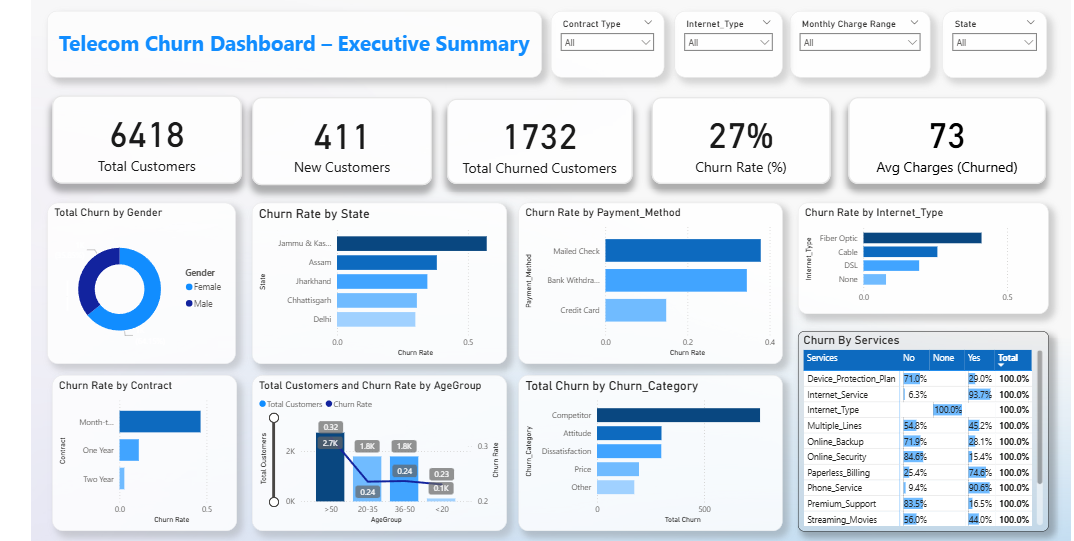

The page's visual inventory and layout, read from the dashboard file:
{"tool":"powerbi","page":{"name":"Executive Summary","canvas":[1800,845],"ordinal":0},"visuals":[{"type":"card","fields":{"Values":["TBL_Measure.Total Customers"]},"box":[131.2,150,291.7,135.4],"z":0},{"type":"card","fields":{"Values":["TBL_Measure.Total Churn"]},"box":[739.6,154.2,285.4,131.2],"z":1000},{"type":"card","fields":{"Values":["TBL_Measure.New Joiners"]},"box":[439.6,152.1,277.1,135.4],"z":2000},{"type":"card","fields":{"Values":["TBL_Measure.Churn Rate"]},"box":[1054.2,152.1,275,133.3],"z":3000},{"type":"donutChart","fields":{"Y":["TBL_Measure.Total Churn"],"Category":["prod_Churn.Gender"]},"box":[125,314.6,289.6,247.9],"z":4000},{"type":"lineStackedColumnComboChart","fields":{"Category":["mapping_AgeGrp.AgeGroup"],"Y":["TBL_Measure.Total Customers"],"Y2":["TBL_Measure.Churn Rate"]},"box":[422.9,597.9,408.3,229.2],"z":5000},{"type":"clusteredBarChart","fields":{"Category":["prod_Churn.Contract"],"Y":["TBL_Measure.Churn Rate"]},"box":[131.2,593.8,283.3,237.5],"z":6000},{"type":"image","box":[150,429.2,12.5,56.2],"z":7000},{"type":"clusteredBarChart","fields":{"Category":["prod_Churn.Internet_Type"],"Y":["TBL_Measure.Churn Rate"]},"box":[1279.2,314.6,385.4,170.8],"z":8000},{"type":"slicer","fields":{"Values":["prod_services.Monthly Charge Range "]},"box":[1268.5,20.7,216.3,102.2],"z":9000},{"type":"textbox","box":[125,20.8,760.4,102.1],"z":10000},{"type":"clusteredBarChart","fields":{"Y":["TBL_Measure.Total Churn"],"Category":["prod_Churn.Churn_Category"]},"box":[850,602.1,406.2,225],"z":11000},{"type":"pivotTable","title":"Churn By Services","fields":{"Columns":["prod_services.Status"],"Values":["Sum(prod_services.Churn Status)"],"Rows":["prod_services.Services"]},"box":[1279.2,512.5,383.3,308.3],"z":12000},{"type":"slicer","fields":{"Values":["prod_Churn.Internet_Type"]},"box":[1090.2,20.7,166.3,102.2],"z":13000},{"type":"slicer","fields":{"Values":["prod_Churn.Contract"]},"box":[900,20.7,173.9,102.2],"z":14000},{"type":"card","fields":{"Values":["TBL_Measure.Avg Monthly Charges (Churned)"]},"box":[1358.3,152.1,304.2,133.3],"z":15000},{"type":"clusteredBarChart","fields":{"Category":["prod_Churn.State"],"Y":["TBL_Measure.Churn Rate"]},"box":[439.6,308.3,391.7,262.5],"z":16000},{"type":"clusteredBarChart","fields":{"Category":["prod_Churn.Payment_Method"],"Y":["TBL_Measure.Churn Rate"]},"box":[850,314.6,406.2,266.7],"z":17000},{"type":"slicer","fields":{"Values":["prod_Churn.State"]},"box":[1502.5,20,160,102.5],"z":18000}]}

Visuals, with their boxes on the page's 1800x845 design canvas (x1, y1, x2, y2). These are canvas units, not pixel positions in the 1074x541 screenshot, which may show the page scaled, cropped or inside an application window:
card - TBL_Measure.Total Customers: 131/150/423/285
card - TBL_Measure.Total Churn: 740/154/1025/285
card - TBL_Measure.New Joiners: 440/152/717/288
card - TBL_Measure.Churn Rate: 1054/152/1329/285
donutChart - TBL_Measure.Total Churn x prod_Churn.Gender: 125/315/415/562
lineStackedColumnComboChart - mapping_AgeGrp.AgeGroup x TBL_Measure.Total Customers: 423/598/831/827
clusteredBarChart - prod_Churn.Contract x TBL_Measure.Churn Rate: 131/594/414/831
image: 150/429/162/485
clusteredBarChart - prod_Churn.Internet_Type x TBL_Measure.Churn Rate: 1279/315/1665/485
slicer - prod_services.Monthly Charge Range : 1268/21/1485/123
textbox: 125/21/885/123
clusteredBarChart - TBL_Measure.Total Churn x prod_Churn.Churn_Category: 850/602/1256/827
"Churn By Services" pivotTable: 1279/512/1662/821
slicer - prod_Churn.Internet_Type: 1090/21/1256/123
slicer - prod_Churn.Contract: 900/21/1074/123
card - TBL_Measure.Avg Monthly Charges (Churned): 1358/152/1662/285
clusteredBarChart - prod_Churn.State x TBL_Measure.Churn Rate: 440/308/831/571
clusteredBarChart - prod_Churn.Payment_Method x TBL_Measure.Churn Rate: 850/315/1256/581
slicer - prod_Churn.State: 1502/20/1662/122
